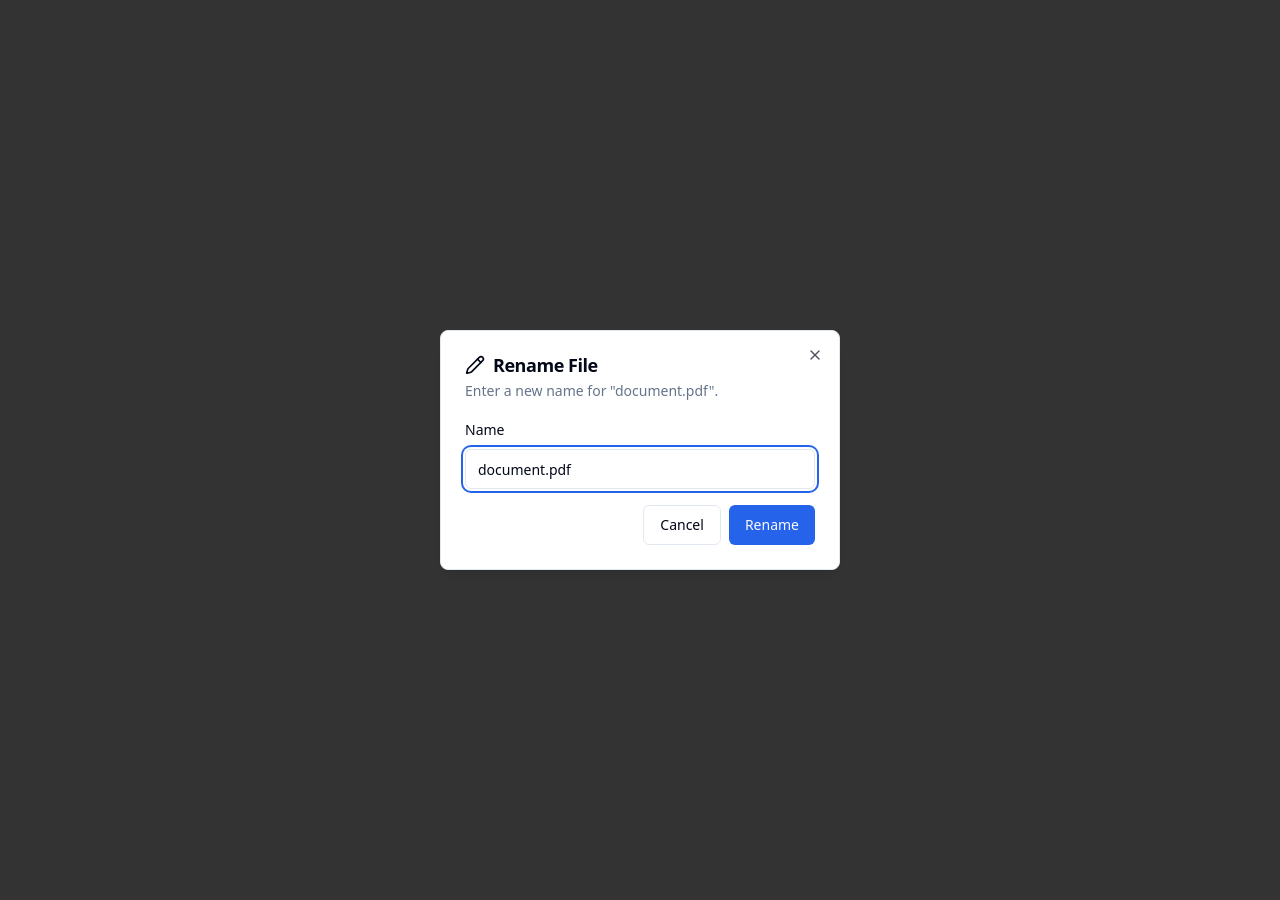
Test case: RenameDialog › should show error on rename failure
Replace the text in the field labelled "Name" with "existing-name.pdf" at (640, 469), box [465,449,815,489]
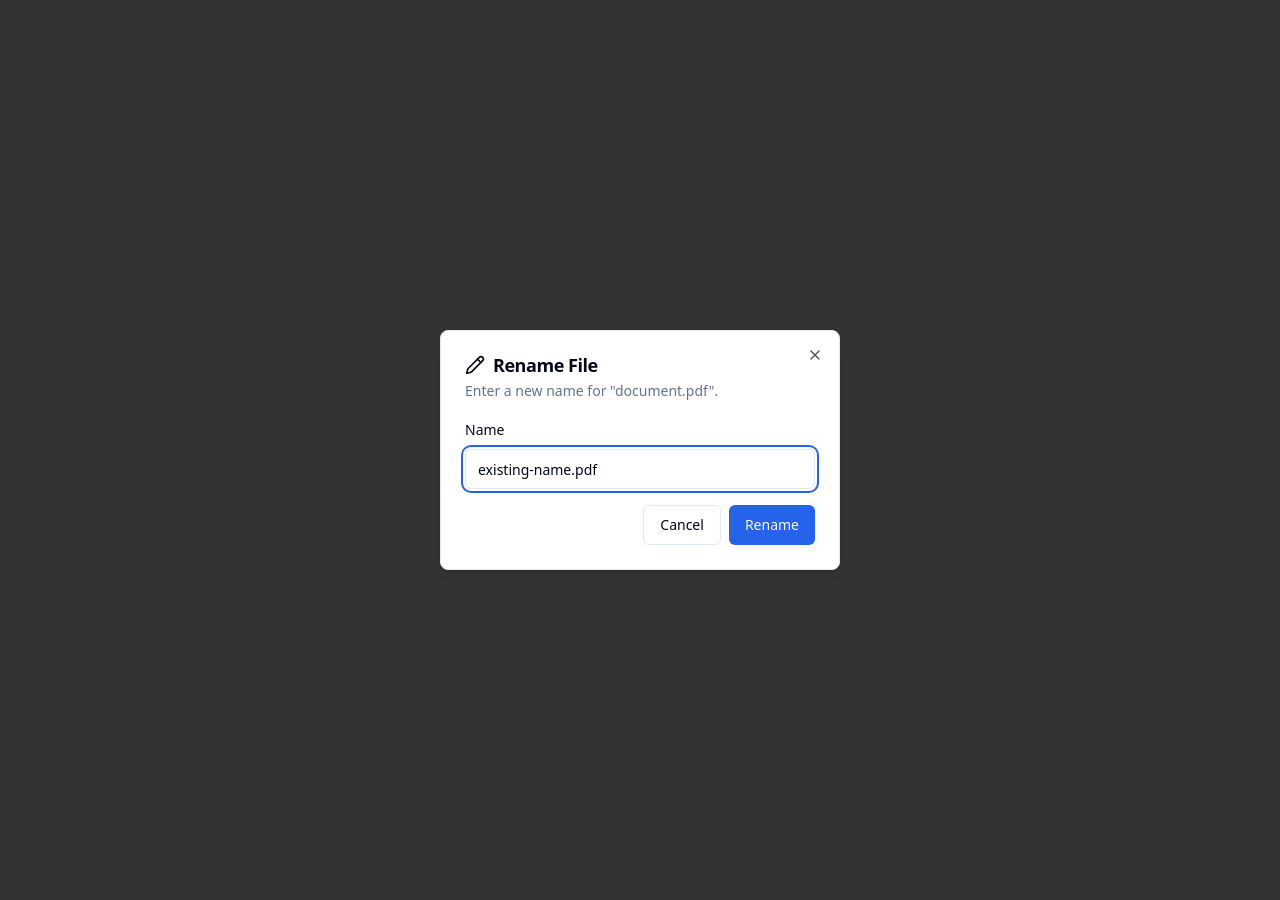
Click the button "Rename" at (772, 525), box [729,505,815,545]
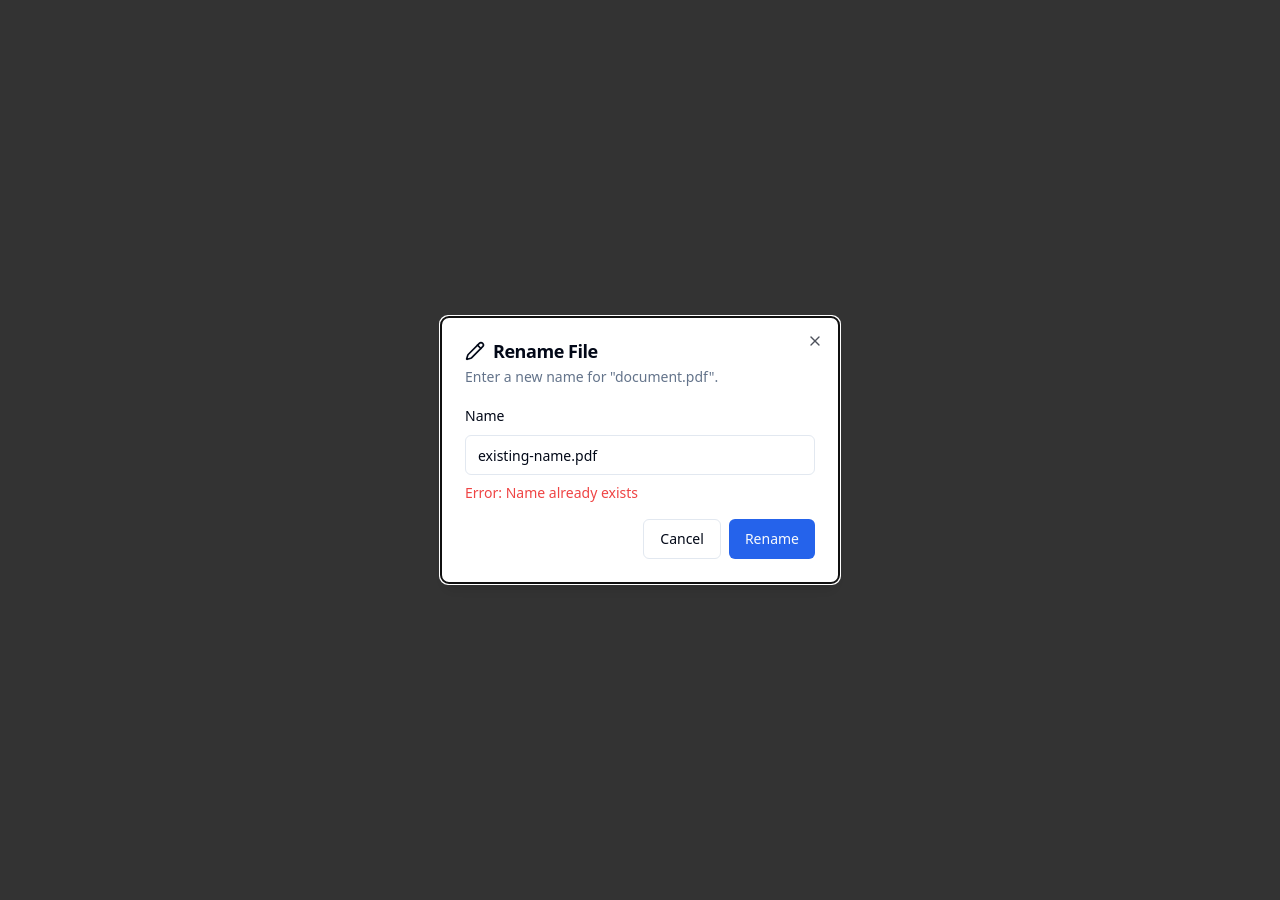
Expected: the text "Error: Name already exists" is shown, [465,483,638,502]
